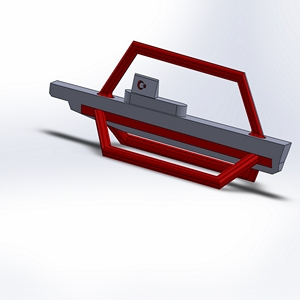submarine: (28, 17, 300, 203)
